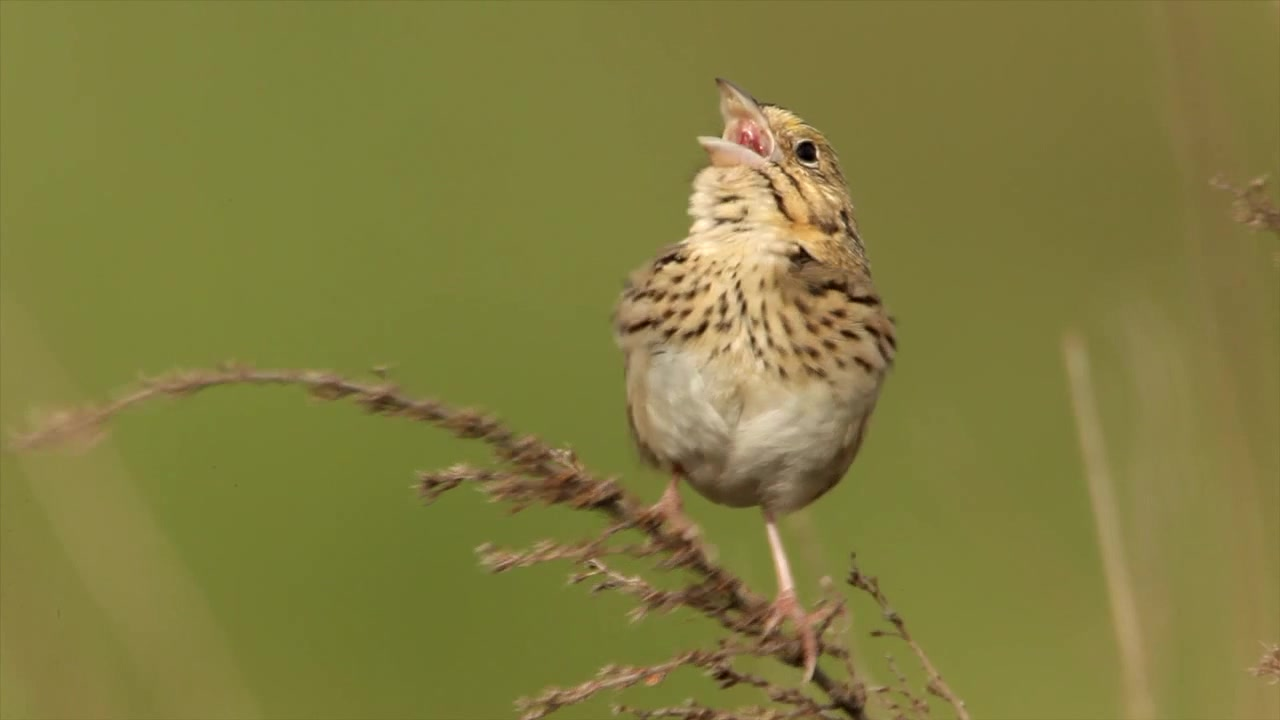bird: (606, 76, 900, 685)
